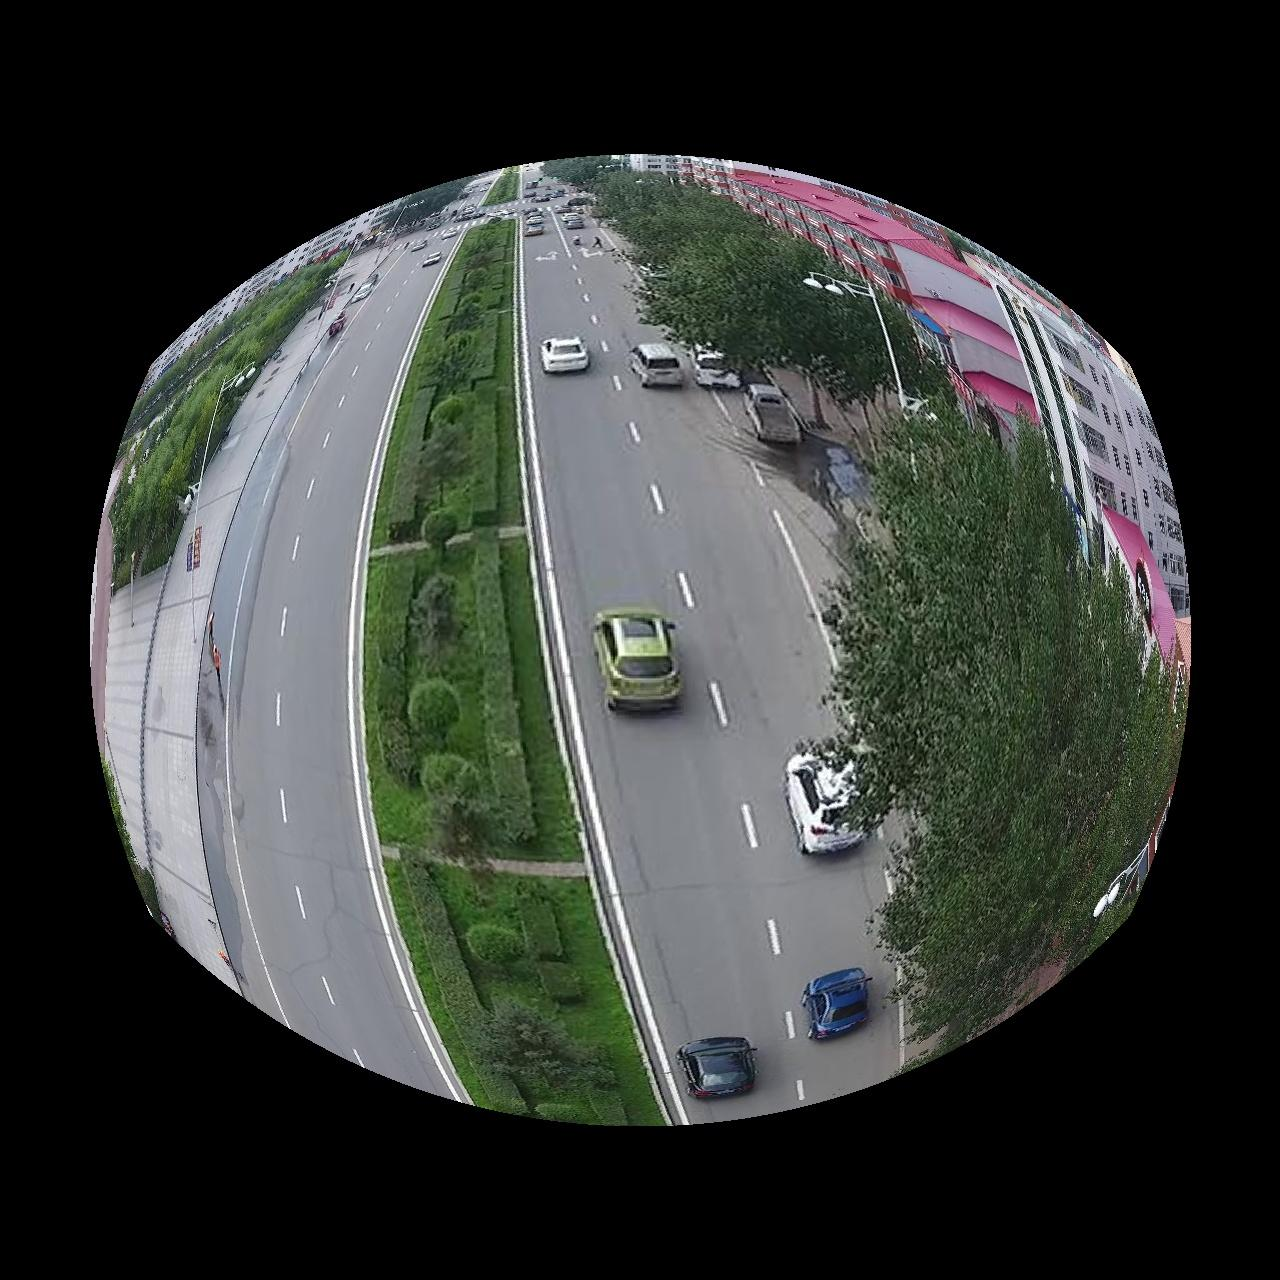cars: (595, 607, 683, 712), (787, 755, 869, 855), (802, 971, 874, 1041), (679, 1039, 757, 1099), (745, 384, 801, 443), (629, 343, 685, 387), (540, 335, 590, 372)
trees: (365, 217, 658, 1125), (837, 397, 1189, 1050), (559, 156, 897, 407), (883, 301, 945, 395)
